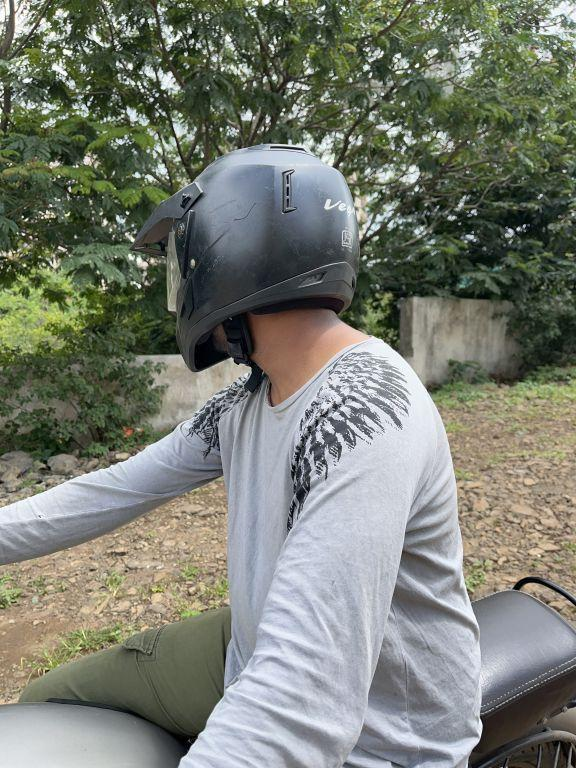helmet: (124, 120, 388, 393)
